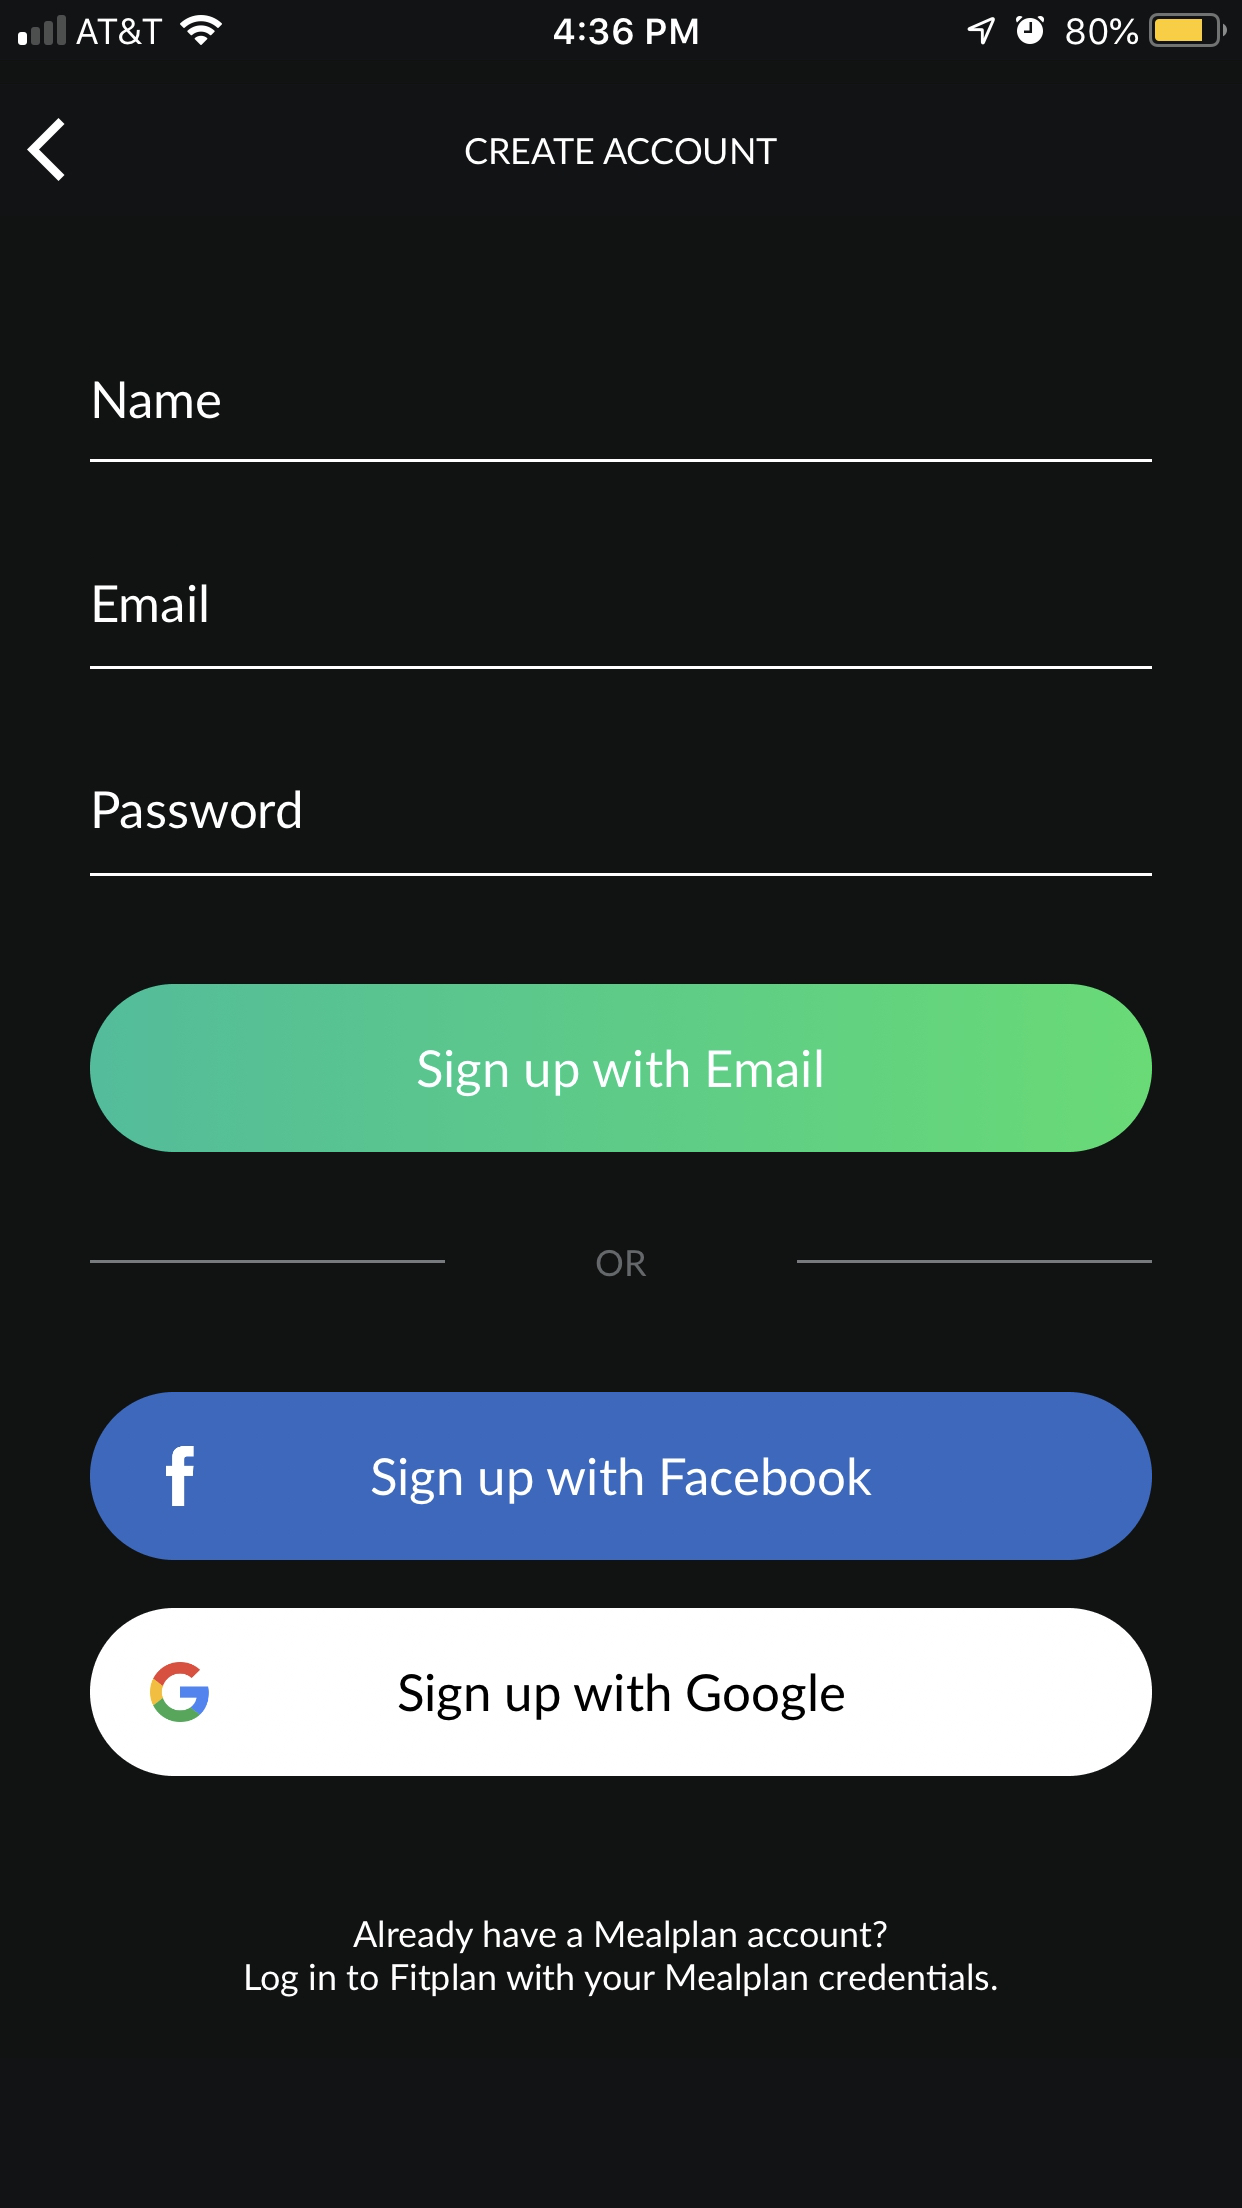EditText: (89, 789, 1153, 878), (89, 582, 1153, 670), (89, 381, 1153, 464)
Icon: (27, 118, 67, 183)
Text: (246, 1962, 998, 1999), (353, 1918, 889, 1955), (94, 789, 300, 831), (466, 138, 778, 165), (93, 381, 221, 420), (94, 584, 208, 623), (596, 1250, 648, 1278)
TextButton: (89, 1607, 1153, 1777), (89, 1391, 1153, 1560), (89, 984, 1153, 1154)
UpperTaskBar: (2, 2, 1242, 49)
